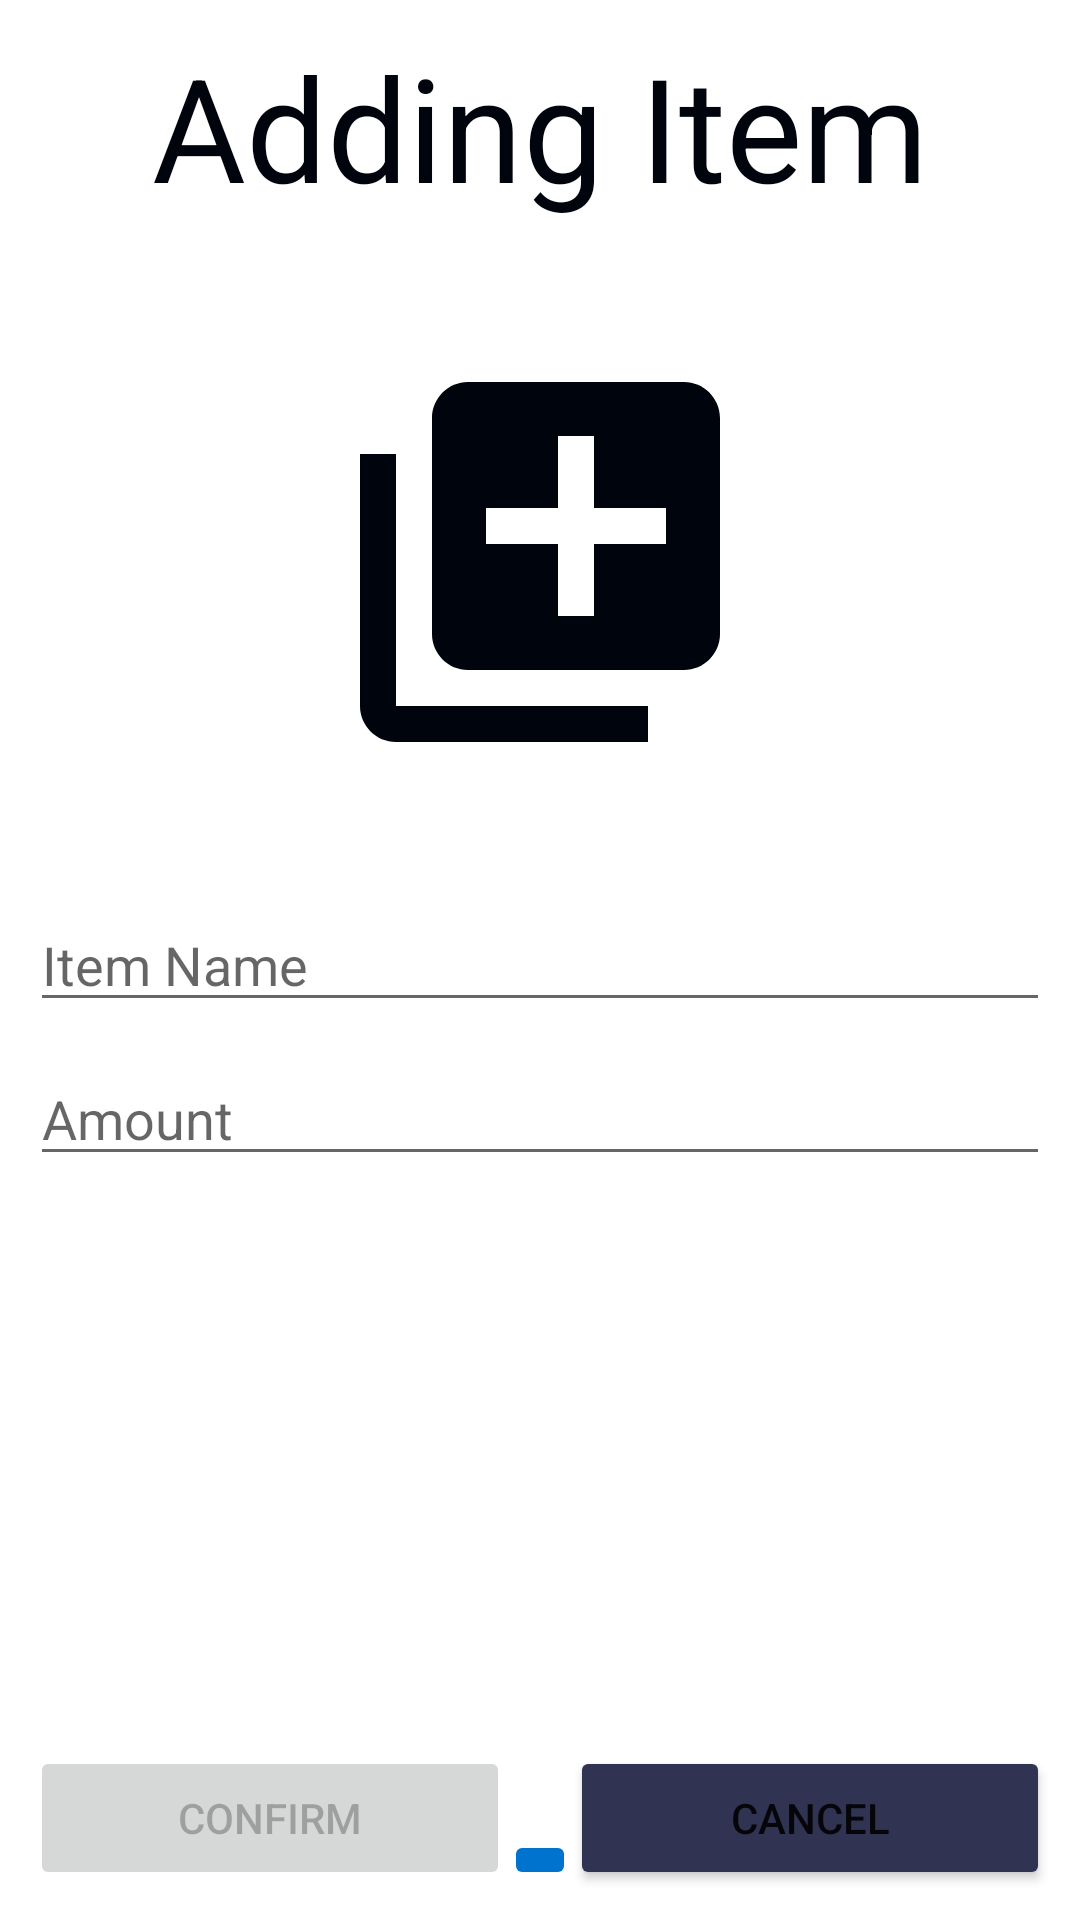

Where to tap for icons on this 1080px x 1920px app screen, as [x,y]:
item add: [540,562]
